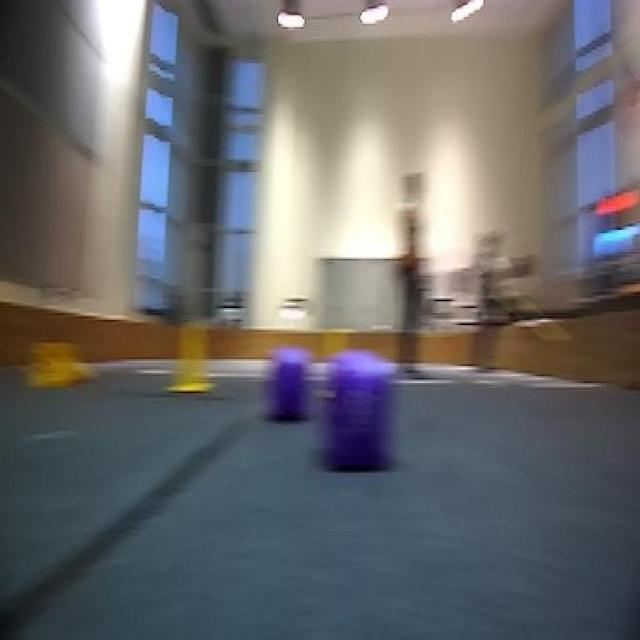frc_cone: (172, 317, 218, 398), (31, 336, 84, 394), (306, 332, 352, 398)
frc_cube: (330, 373, 395, 480), (272, 371, 307, 417)
